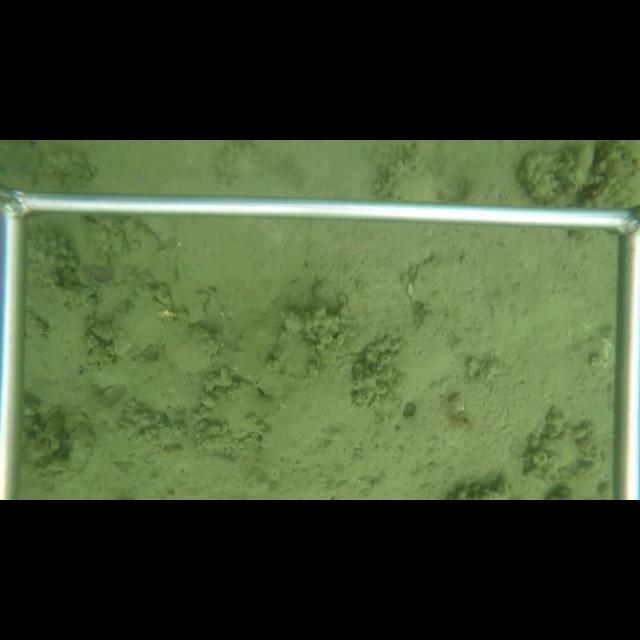Oyster-Closed: (155, 307, 223, 374), (43, 404, 64, 460)
